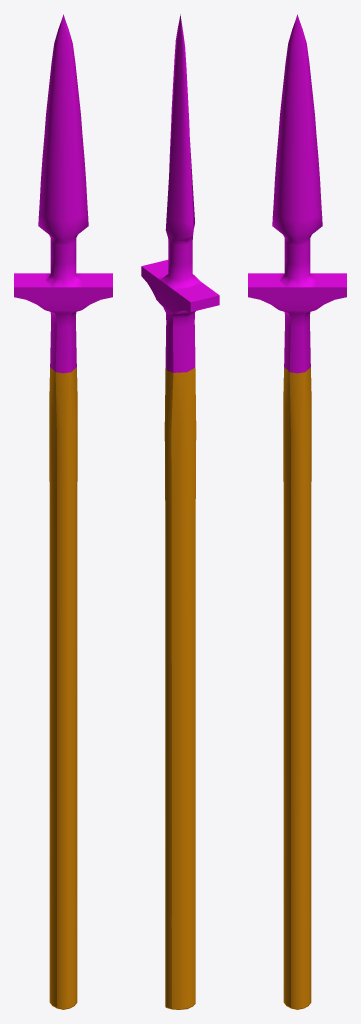
File: spear (1).fbx
3 renders of one model, left to right at view 1: azimuth 90°, elevation 25°; view 2: azimuth 210°, elevation 25°; view 3: azimuth 270°, elevation 25°, orthographic.
Parts seen in each view (by area): view 1: polySurface16; view 2: polySurface16; view 3: polySurface16.
Boxes of the visible parts, bbox=[...] form: polySurface16: bbox=[14, 14, 112, 1009]; polySurface16: bbox=[141, 14, 219, 1009]; polySurface16: bbox=[248, 14, 346, 1009].
Size of the model in its own units: 1.08 by 33.23 by 3.01.
